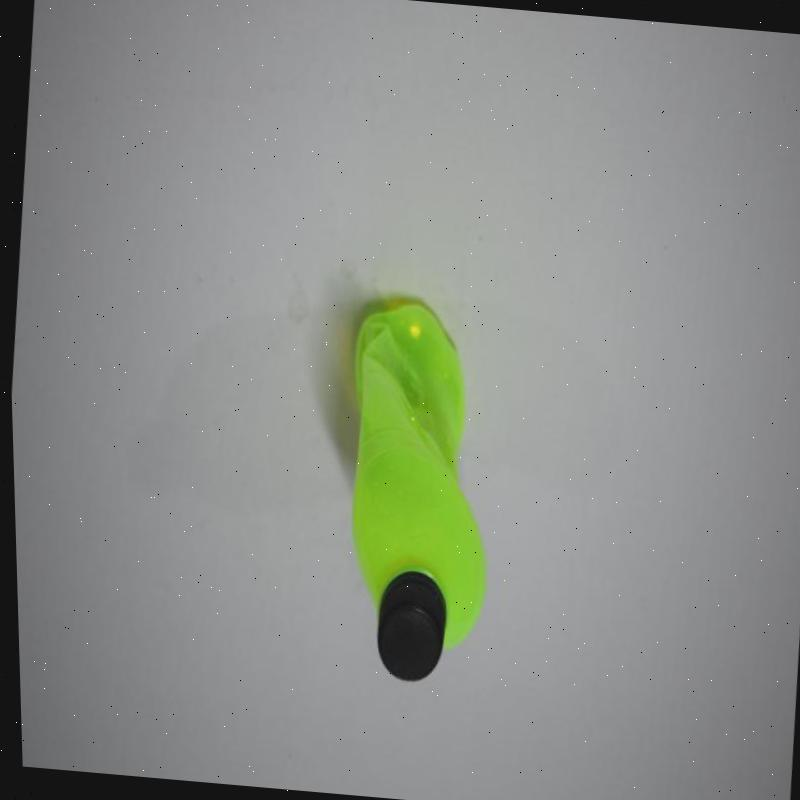botella: (319, 293, 512, 687)
